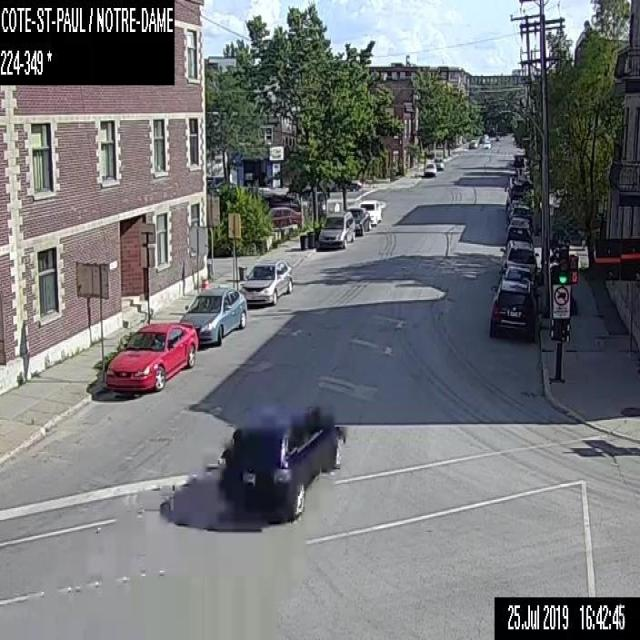vehicle: (215, 402, 346, 518), (105, 320, 198, 393), (178, 287, 246, 347), (488, 278, 538, 342), (239, 257, 292, 305), (504, 151, 532, 211), (499, 238, 538, 276), (318, 210, 355, 249), (347, 207, 371, 236), (501, 265, 533, 286), (504, 216, 530, 241), (266, 207, 300, 226), (359, 199, 382, 225), (263, 193, 300, 209), (306, 191, 324, 214), (508, 205, 531, 220), (424, 161, 436, 177), (432, 156, 443, 169), (468, 139, 477, 147), (483, 140, 490, 149)
